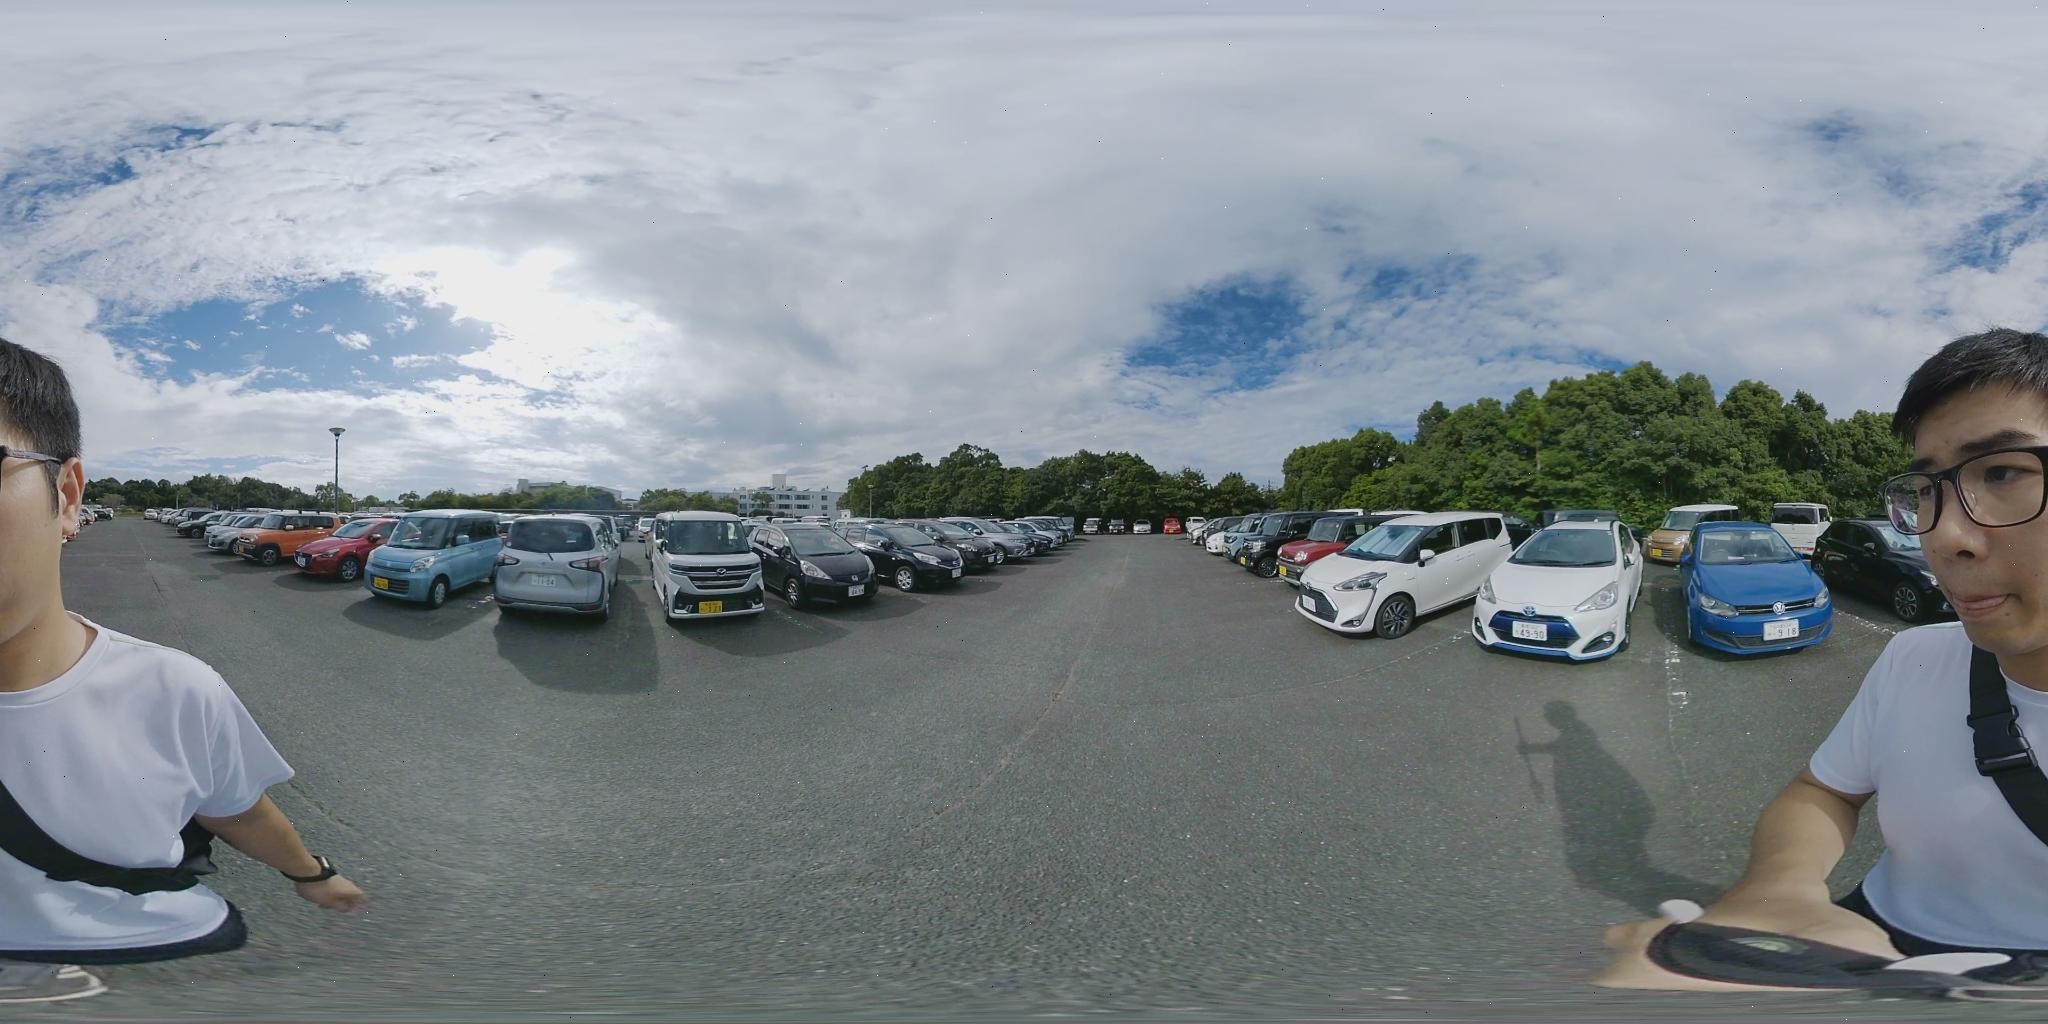car: (1277, 512, 1516, 643), (1676, 522, 1842, 656), (1479, 519, 1642, 653), (1809, 521, 1947, 622), (652, 508, 764, 630), (492, 516, 619, 618), (362, 519, 504, 607), (755, 526, 884, 606), (837, 525, 959, 589), (212, 513, 344, 559), (887, 520, 993, 569), (1765, 503, 1832, 543)
